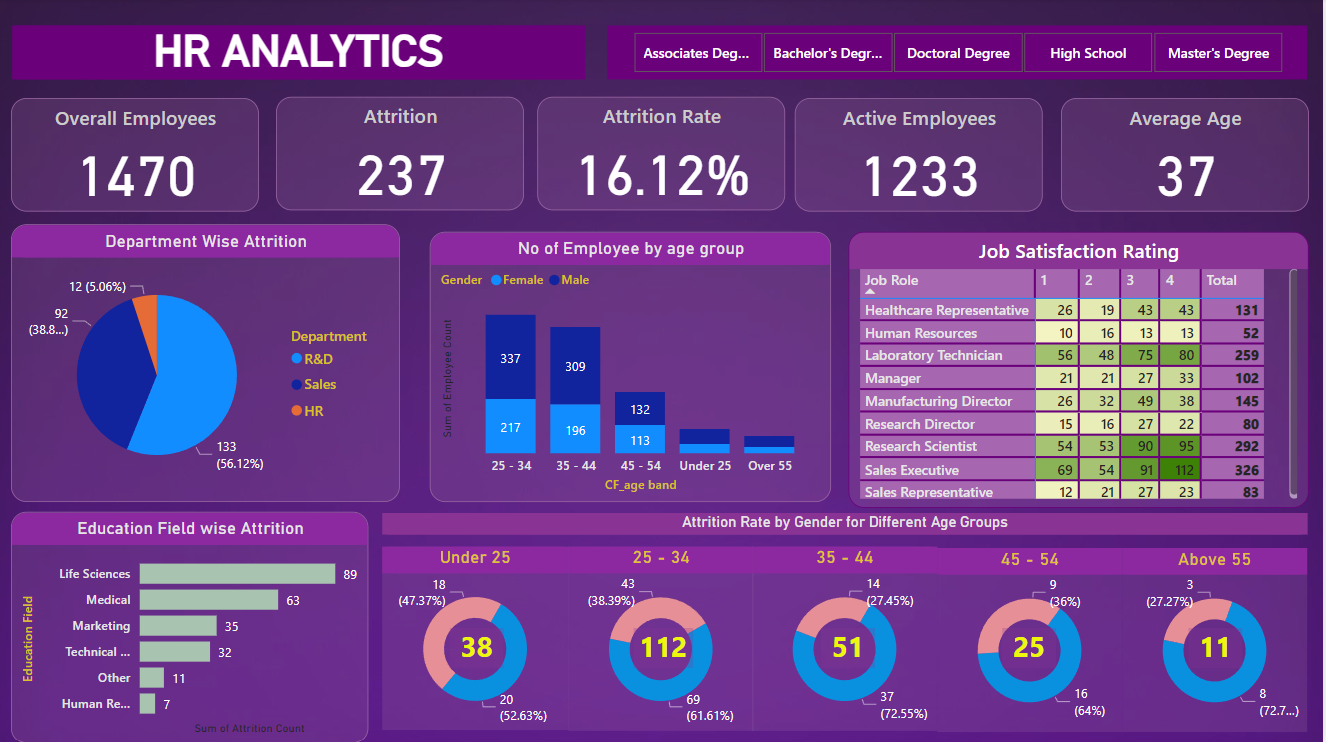

What the dashboard file says about the page in this screenshot:
{"tool":"powerbi","page":{"name":"Page 1","canvas":[1280,720],"ordinal":0},"visuals":[{"type":"card","title":"Overall Employees","fields":{"Values":["Sum(HR data.Employee Count)"]},"box":[14.7,96.7,238.8,109.9],"z":0},{"type":"card","title":"Attrition","fields":{"Values":["Sum(HR data.Attrition Count)"]},"box":[269.6,95.2,238.8,109.9],"z":1000},{"type":"card","title":"Attrition Rate","fields":{"Values":["HR data.Attrition Rate"]},"box":[521.6,95.2,238.8,109.9],"z":2000},{"type":"card","title":"Active Employees","fields":{"Values":["HR data.Active Employees"]},"box":[770.7,96.7,238.8,109.9],"z":3000},{"type":"card","title":"Average Age","fields":{"Values":["Avg(HR data.Age)"]},"box":[1027.1,96.7,238.8,109.9],"z":4000},{"type":"pieChart","title":"Department Wise Attrition","fields":{"Category":["HR data.Department"],"Y":["Sum(HR data.Attrition Count)"]},"box":[14.5,218.3,375.1,267.7],"z":5000},{"type":"columnChart","title":"No of Employee by age group","fields":{"Category":["HR data.CF_age band"],"Y":["Sum(HR data.Employee Count)"],"Series":["HR data.Gender"]},"box":[418.5,225.5,387.1,260.5],"z":6000},{"type":"pivotTable","title":"Job Satisfaction Rating","fields":{"Rows":["HR data.Job Role"],"Columns":["HR data.Job Satisfaction"],"Values":["Sum(HR data.Employee Count)"]},"box":[822.5,225.5,443.8,266.5],"z":7000},{"type":"barChart","title":"Education Field wise Attrition","fields":{"Category":["HR data.Education Field"],"Y":["Sum(HR data.Attrition Count)"]},"box":[14,496,345,224],"z":8000},{"type":"donutChart","title":"Under 25","fields":{"Category":["HR data.Gender"],"Y":["Sum(HR data.Attrition Count)"],"Series":["HR data.CF_age band"]},"box":[372.9,529.2,179.6,176.9],"z":9000},{"type":"textbox","title":"Attrition Rate by Gender for Different Age Groups","box":[372.9,496.3,892.6,20.6],"z":10000},{"type":"donutChart","title":" 25 - 34","fields":{"Category":["HR data.Gender"],"Y":["Sum(HR data.Attrition Count)"],"Series":["HR data.CF_age band"]},"box":[552.4,529.4,178.5,177.3],"z":11000},{"type":"donutChart","title":"35 - 44","fields":{"Category":["HR data.Gender"],"Y":["Sum(HR data.Attrition Count)"],"Series":["HR data.CF_age band"]},"box":[729.6,529.4,178.5,177.3],"z":12000},{"type":"donutChart","title":"45 - 54","fields":{"Category":["HR data.Gender"],"Y":["Sum(HR data.Attrition Count)"],"Series":["HR data.CF_age band"]},"box":[908.1,530.7,178.5,177.3],"z":13000},{"type":"donutChart","title":"Above 55","fields":{"Category":["HR data.Gender"],"Y":["Sum(HR data.Attrition Count)"],"Series":["HR data.CF_age band"]},"box":[1086.6,530.7,178.5,177.3],"z":14000},{"type":"card","fields":{"Values":["Sum(HR data.Attrition Count)"]},"box":[437.8,607.8,51.9,38.6],"z":15000},{"type":"card","fields":{"Values":["Sum(HR data.Attrition Count)"]},"box":[615.6,607.4,57.6,38.4],"z":16000},{"type":"card","fields":{"Values":["Sum(HR data.Attrition Count)"]},"box":[796,607.8,51.9,38.6],"z":17000},{"type":"card","fields":{"Values":["Sum(HR data.Attrition Count)"]},"box":[970.9,607.8,51.9,38.6],"z":18000},{"type":"card","fields":{"Values":["Sum(HR data.Attrition Count)"]},"box":[1150.6,607.8,51.9,38.6],"z":19000},{"type":"textbox","title":"HR ANALYTICS DASHBOARD","box":[15.1,26,552.5,52.1],"z":19001},{"type":"slicer","fields":{"Values":["HR data.Education"]},"box":[589.7,26.5,675.4,51.9],"z":19002}]}

Visuals, with their boxes in screenshot pixels (x1, y1, x2, y2), scaled from the page's 1280x720 canvas onto the 1326x742 screenshot:
"Overall Employees" card: 15 100 263 213
"Attrition" card: 279 98 527 211
"Attrition Rate" card: 540 98 788 211
"Active Employees" card: 798 100 1046 213
"Average Age" card: 1064 100 1311 213
"Department Wise Attrition" pieChart: 15 225 404 501
"No of Employee by age group" columnChart: 434 232 835 501
"Job Satisfaction Rating" pivotTable: 852 232 1312 507
"Education Field wise Attrition" barChart: 15 511 372 741
"Under 25" donutChart: 386 545 572 728
"Attrition Rate by Gender for Different Age Groups" textbox: 386 511 1311 533
" 25 - 34" donutChart: 572 546 757 728
"35 - 44" donutChart: 756 546 941 728
"45 - 54" donutChart: 941 547 1126 730
"Above 55" donutChart: 1126 547 1311 730
card - Sum(HR data.Attrition Count): 454 626 507 666
card - Sum(HR data.Attrition Count): 638 626 697 666
card - Sum(HR data.Attrition Count): 825 626 878 666
card - Sum(HR data.Attrition Count): 1006 626 1060 666
card - Sum(HR data.Attrition Count): 1192 626 1246 666
"HR ANALYTICS DASHBOARD" textbox: 16 27 588 80
slicer - HR data.Education: 611 27 1311 81
